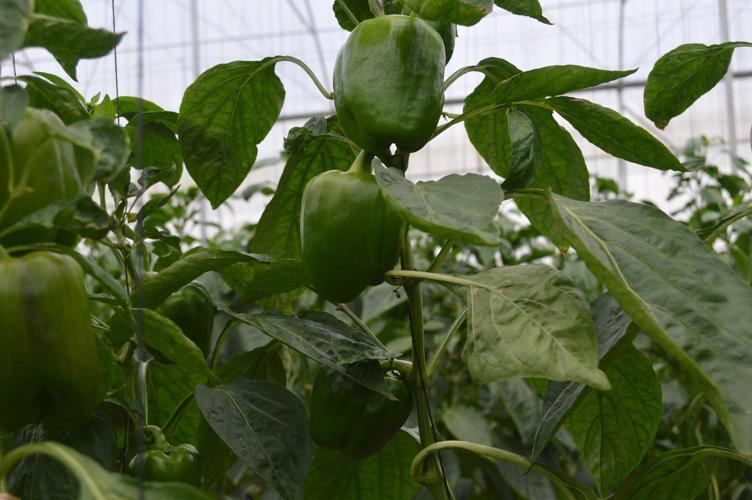BellPepper: (317, 15, 446, 147), (4, 263, 95, 440), (295, 172, 404, 290), (301, 363, 416, 461), (145, 290, 214, 354), (117, 452, 201, 482)
